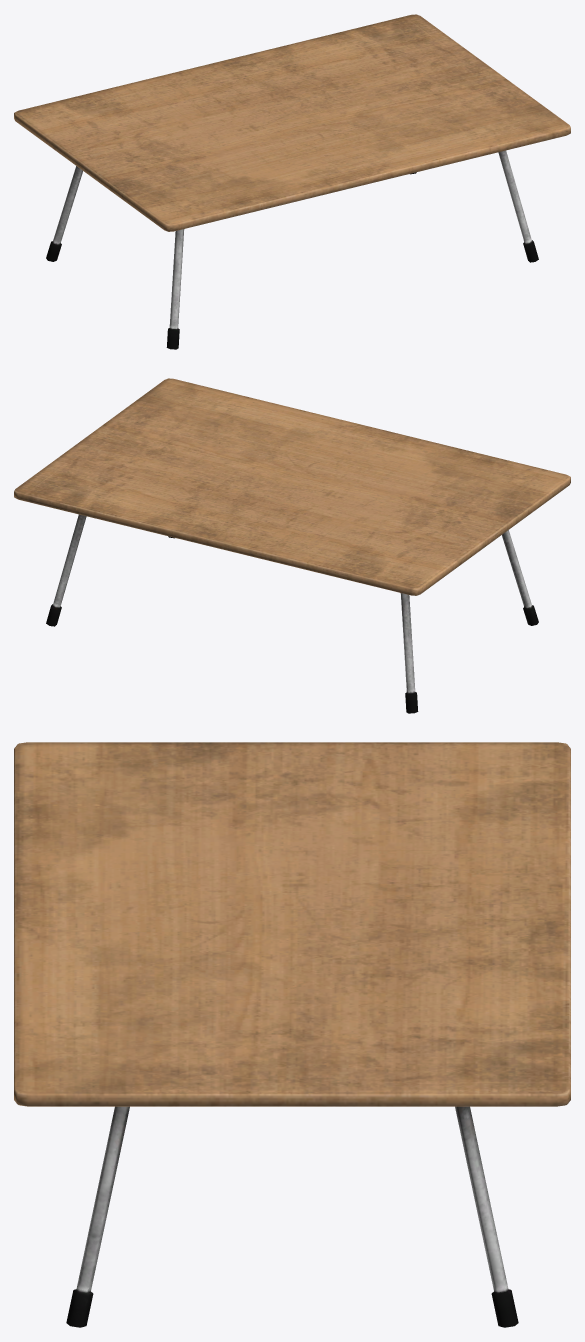
File: japaneseTable01.FBX
3 renders of one model, top to bottom at view 1: azimuth 30°, elevation 25°; view 2: azimuth 150°, elevation 25°; view 3: azimuth 270°, elevation 25°, orthographic. The views are drawn at different scales.
Parts seen in each view (by area): view 1: SM_Japanesetable01; view 2: SM_Japanesetable01; view 3: SM_Japanesetable01.
Boxes of the visible parts, x1,y1,x2,y2 form: SM_Japanesetable01: [14, 14, 570, 349]; SM_Japanesetable01: [14, 378, 570, 713]; SM_Japanesetable01: [14, 742, 570, 1327].
Bounding box in the file's own units: 60 × 19.91 × 40.
Materials: 1 (1 with a texture image).
